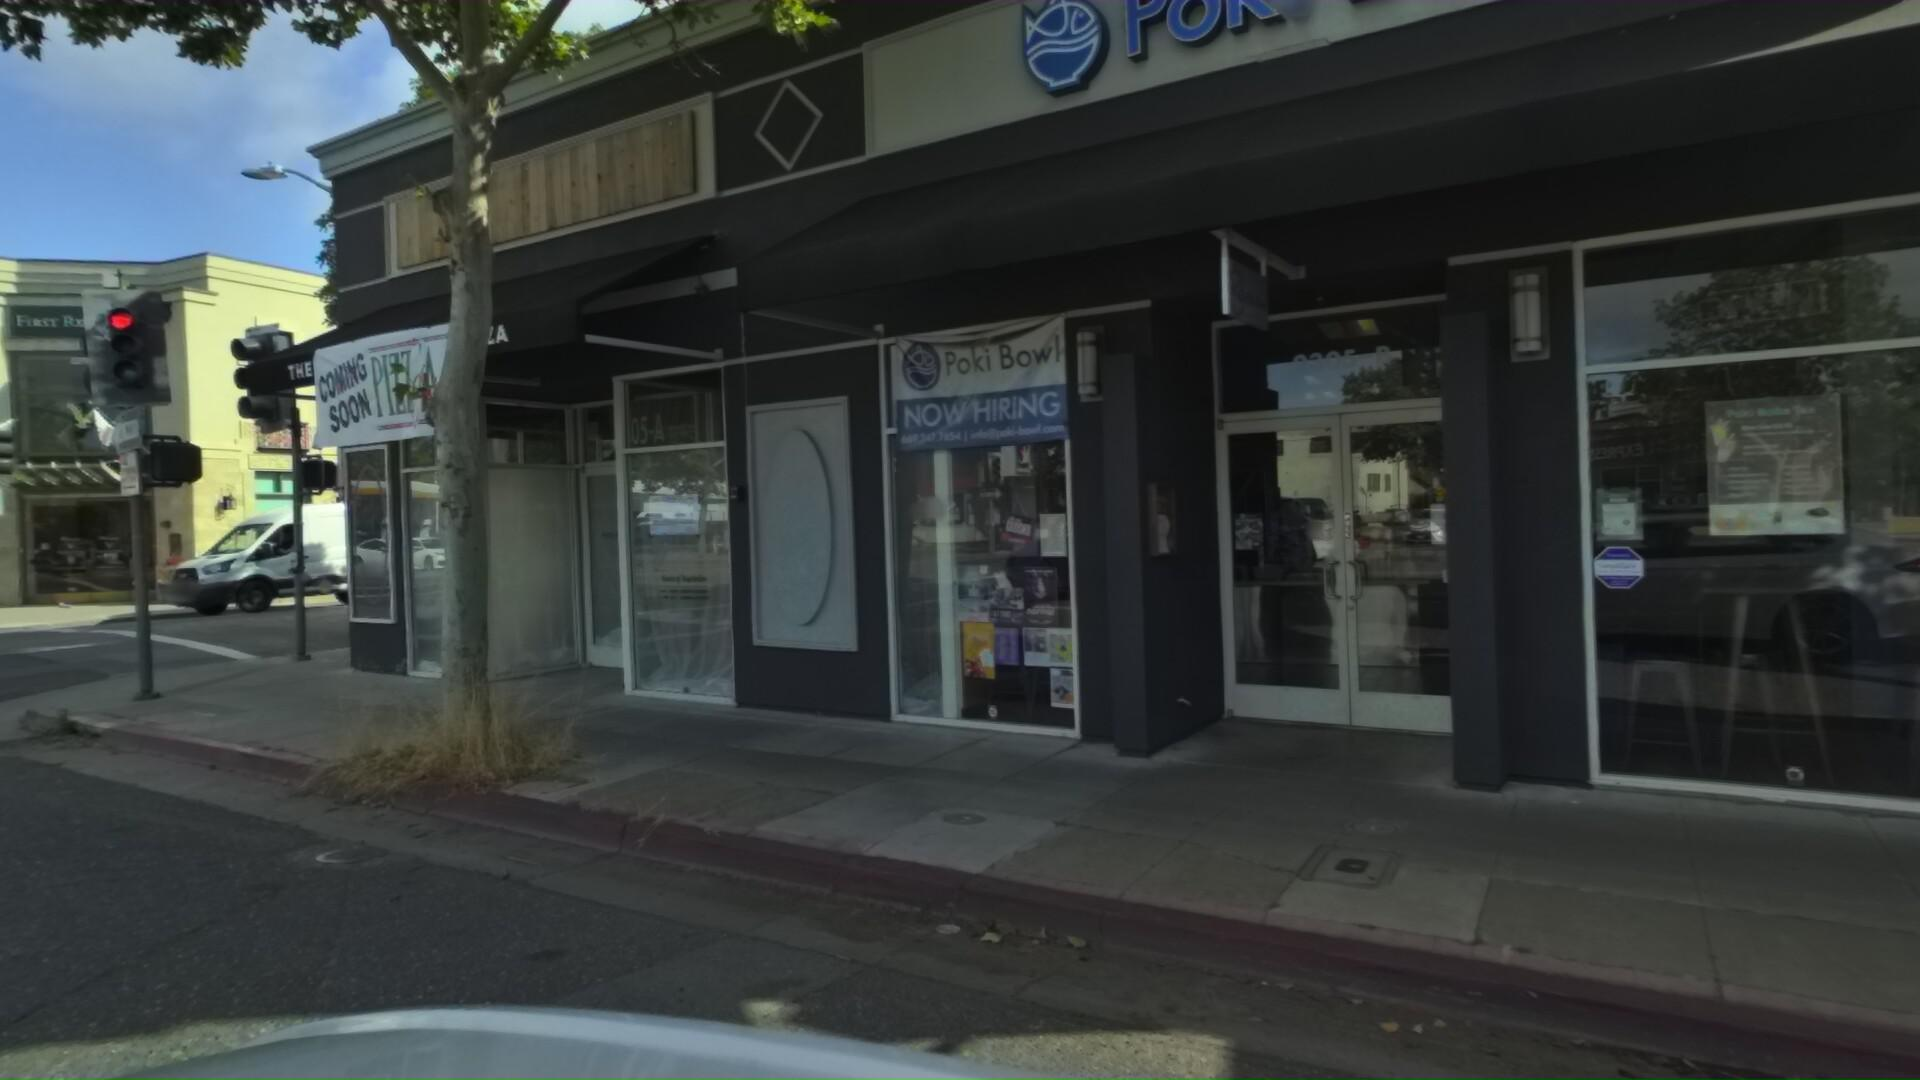car: (148, 495, 442, 618)
